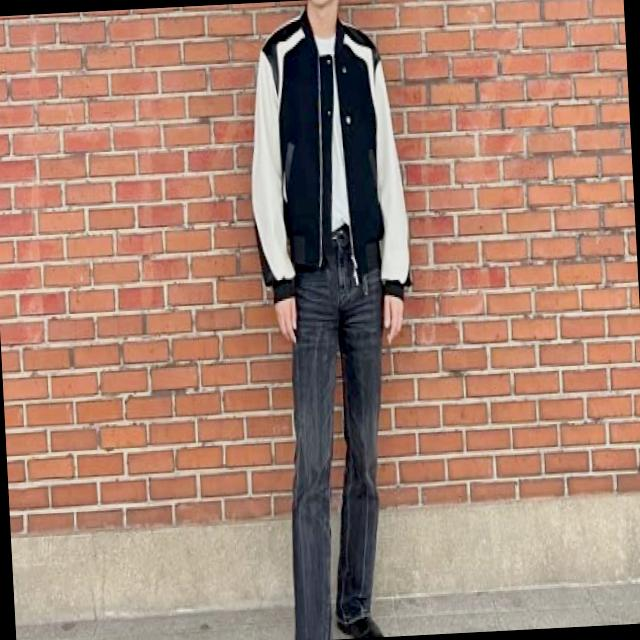denimpants: (276, 218, 397, 640)
jacket: (247, 4, 418, 306)
